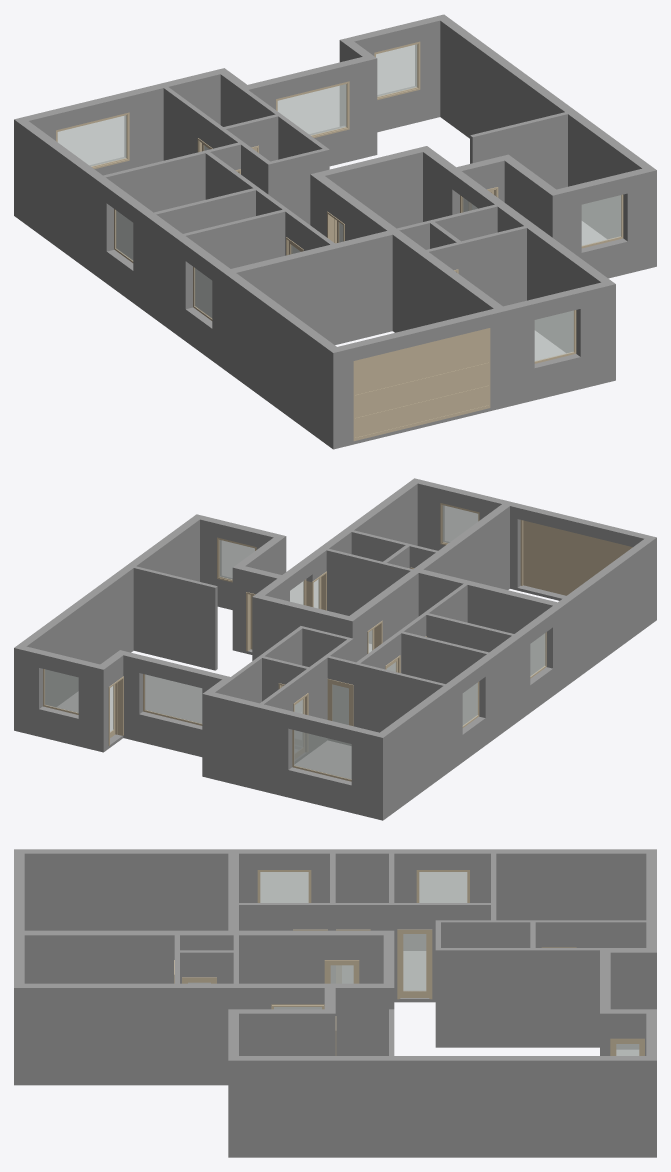
Rendered from 01_house_complete.fbx.
3 views of the same model, one above another, from view 1: azimuth 30°, elevation 25°; view 2: azimuth 150°, elevation 25°; view 3: azimuth 270°, elevation 25° (orthographic). The views are drawn at different scales.
Visible parts, largest first — view 1: walls, frames, glass; view 2: walls, frames, glass; view 3: walls, glass, frames.
Boxes of the visible parts, x1,y1,x2,y2 form: walls: (14,14,656,449); frames: (56,41,623,441); glass: (57,44,621,361); walls: (14,478,656,820); frames: (43,503,632,781); glass: (44,505,545,779); walls: (14,849,656,1157); glass: (188,872,639,1055); frames: (174,870,644,1055).
Bounding box in the file's own units: 14 × 3 × 18.
